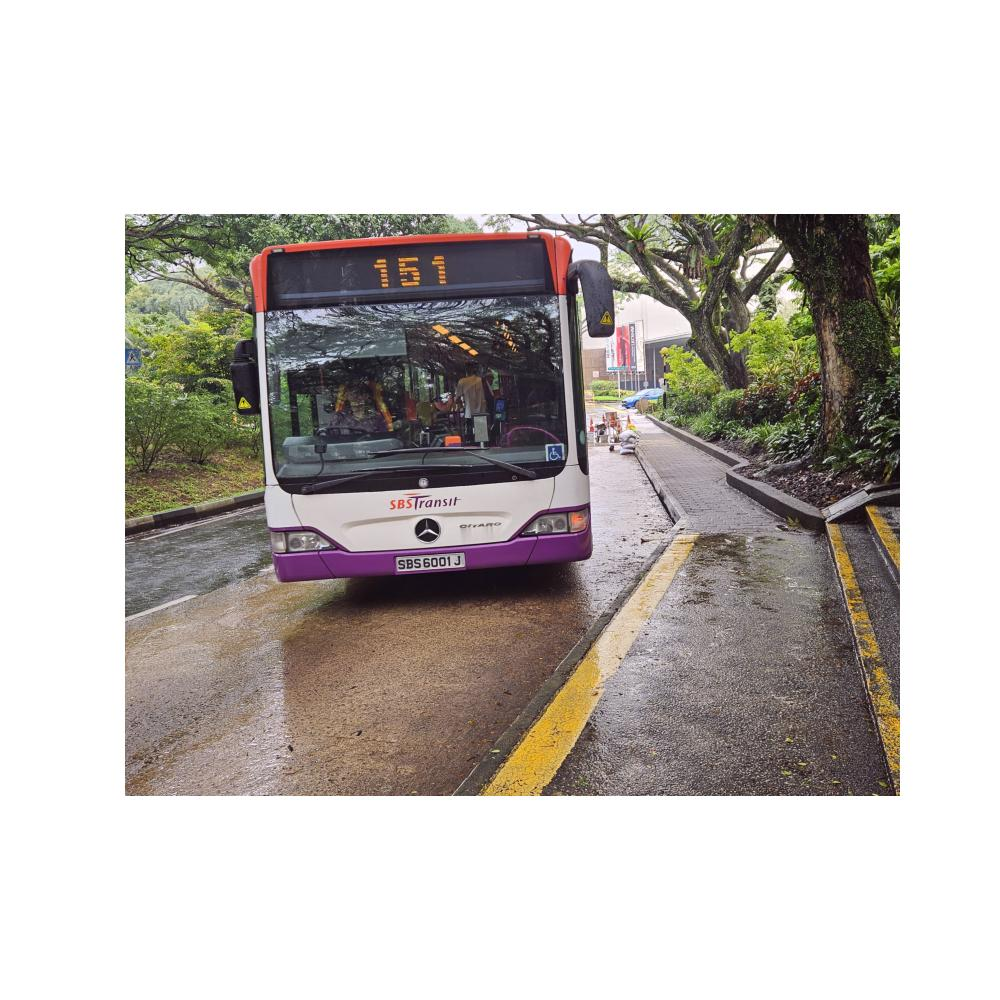bus: (233, 230, 613, 589)
